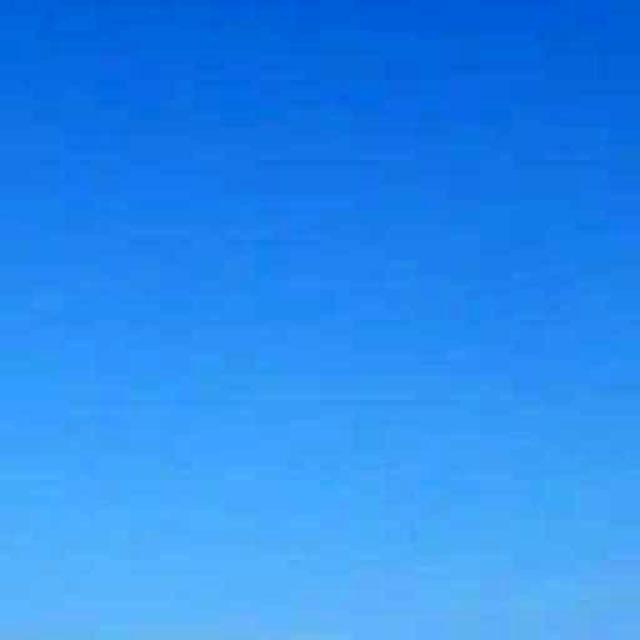drone: (379, 494, 449, 572)
